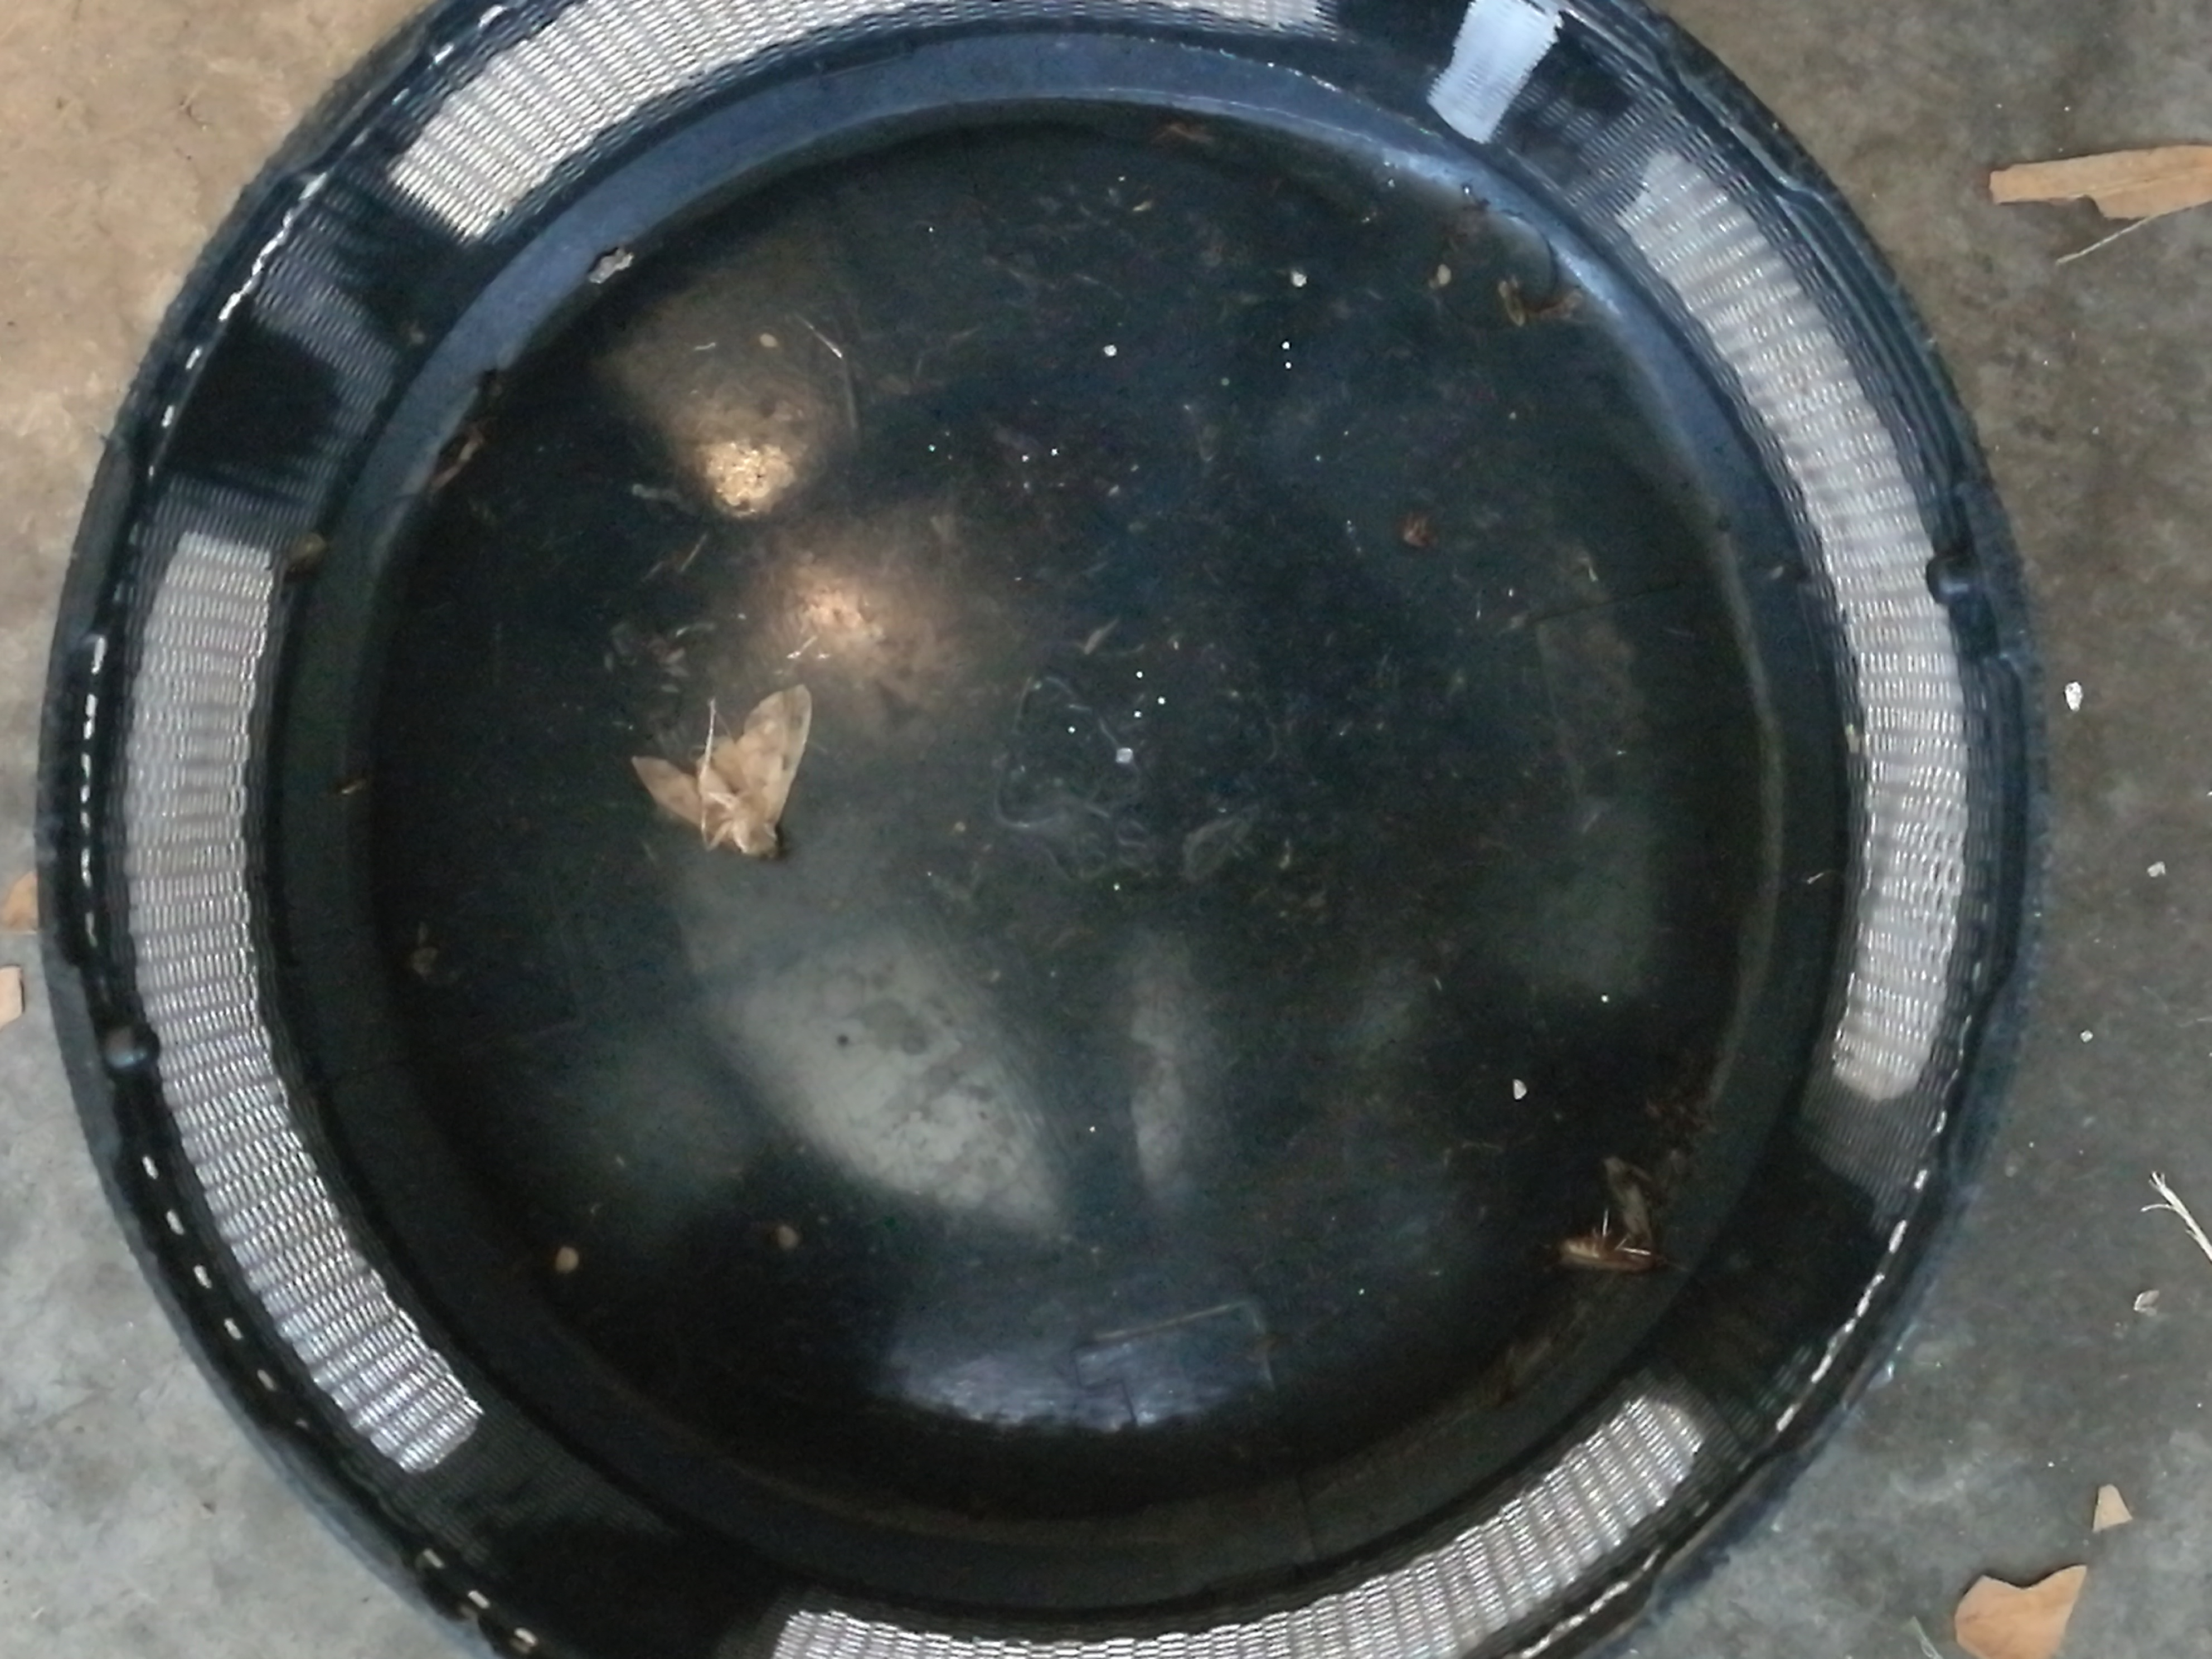moth: (632, 685, 812, 852), (1564, 1159, 1656, 1274)
